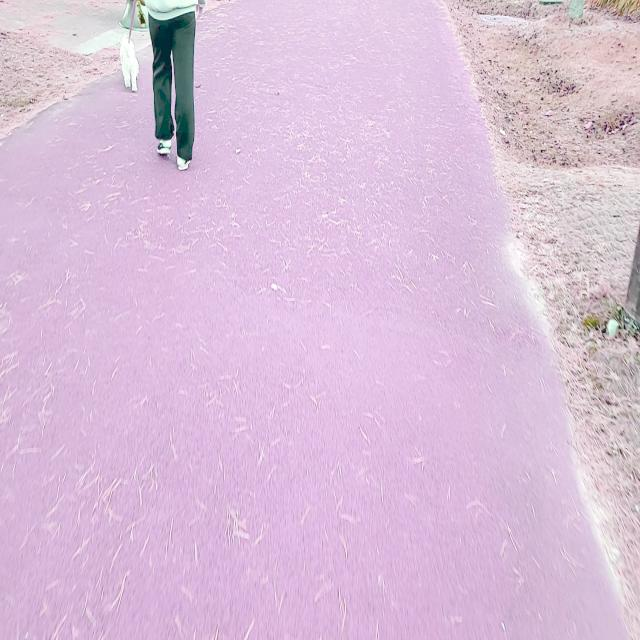Leashed_Dog: (119, 0, 170, 92)
